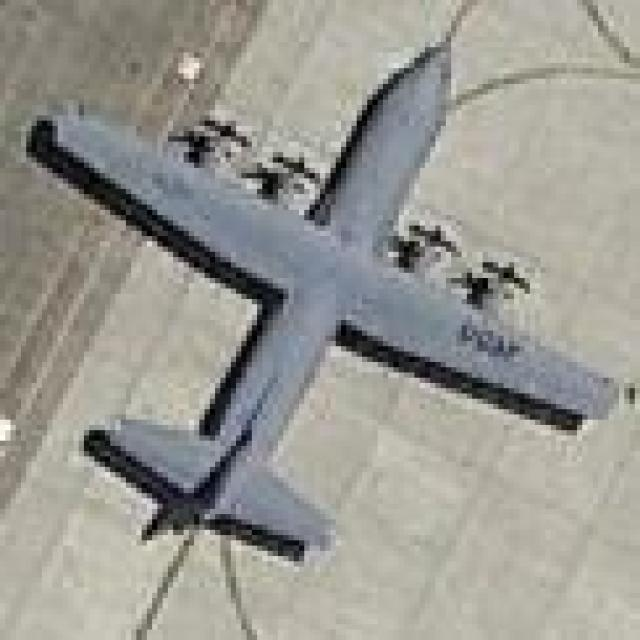C-130_TopDown: (17, 21, 624, 567)
